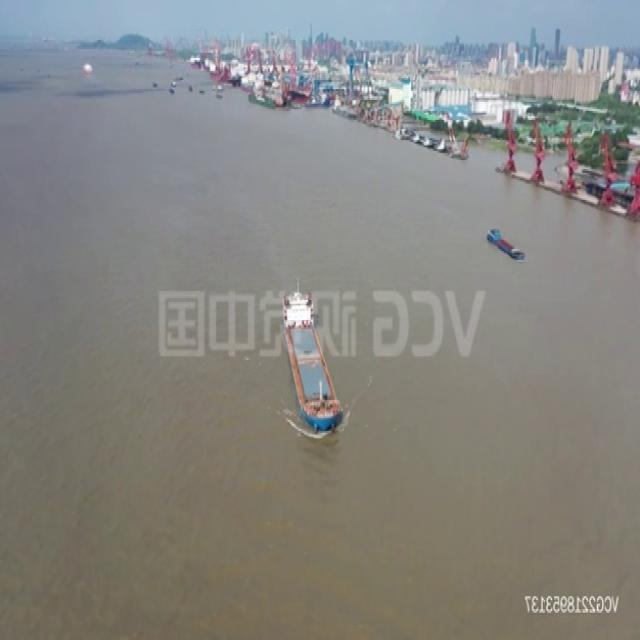cargoship: (280, 277, 345, 432), (486, 222, 528, 266)
